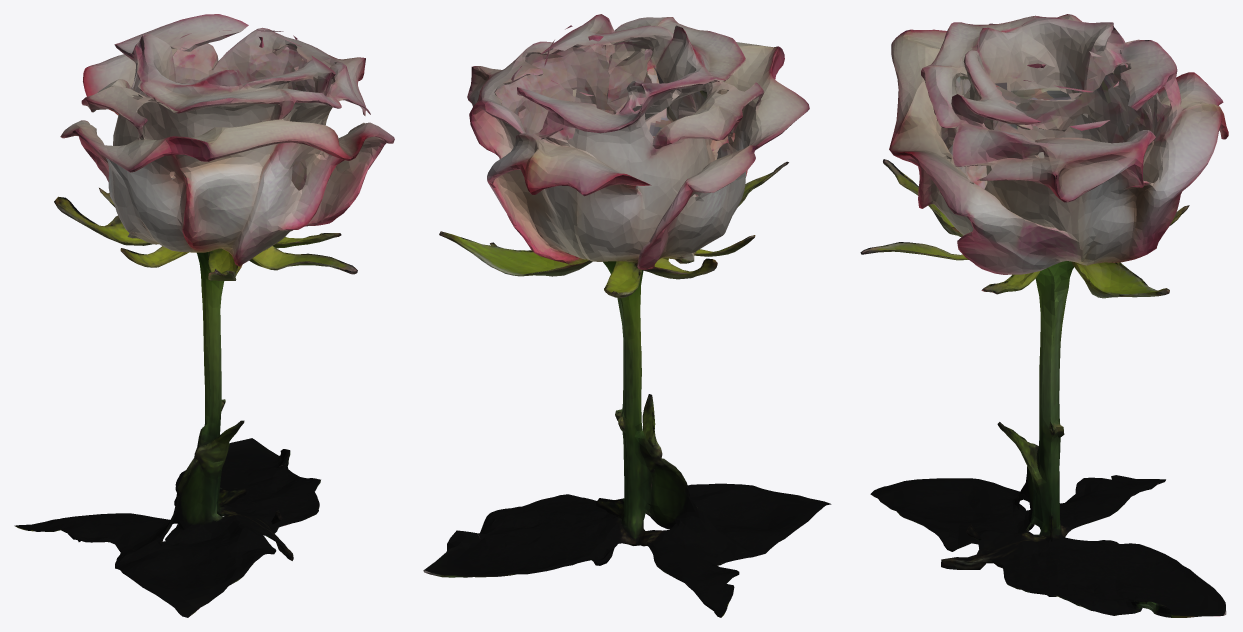
3 views of the same model, side by side, from view 1: azimuth 30°, elevation 25°; view 2: azimuth 150°, elevation 25°; view 3: azimuth 270°, elevation 25° (orthographic). The views are drawn at different scales.
Visible parts, largest first — view 1: world; view 2: world; view 3: world.
Part boxes in pixels (x1,y1,x2,y2): world: [14, 14, 394, 617]; world: [423, 14, 831, 617]; world: [860, 14, 1228, 617].
Bounding box in the file's own units: 0.6359 × 0.9944 × 0.6427.
1 material, 1 textured.
